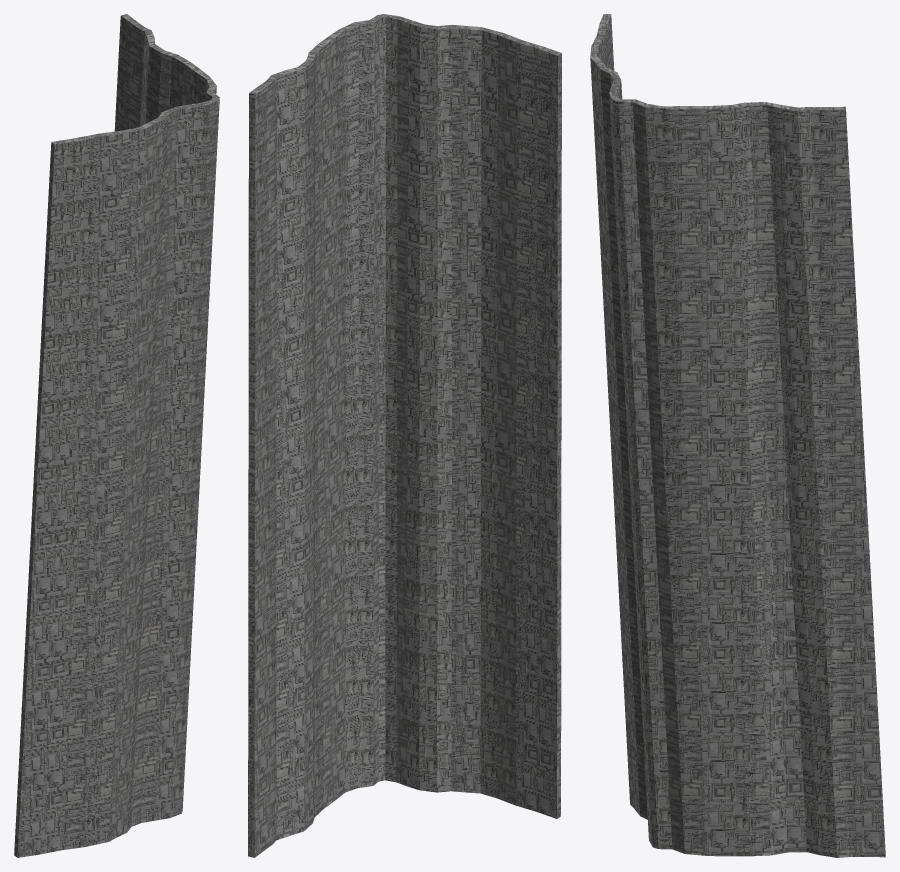
File: Area2_Border1.fbx
The picture shows the model from 3 angles, left to right: view 1: azimuth 30°, elevation 25°; view 2: azimuth 150°, elevation 25°; view 3: azimuth 270°, elevation 25°; orthographic projection. The views are drawn at different scales.
Parts seen in each view (by area): view 1: Area2_Border1; view 2: Area2_Border1; view 3: Area2_Border1.
Part boxes in pixels (x1,y1,x2,y2): Area2_Border1: [14, 14, 219, 857]; Area2_Border1: [248, 14, 561, 857]; Area2_Border1: [590, 14, 885, 857].
Size of the model in its own units: 1629 by 5413 by 1916.
1 material, 1 textured.
